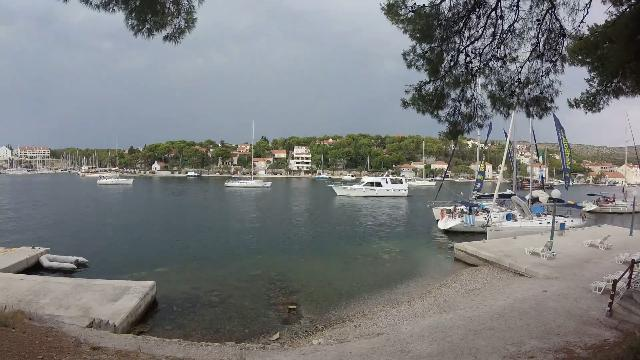Sailboat: (218, 174, 278, 190), (92, 170, 140, 188), (406, 172, 440, 188)
ferry: (322, 172, 414, 202)
